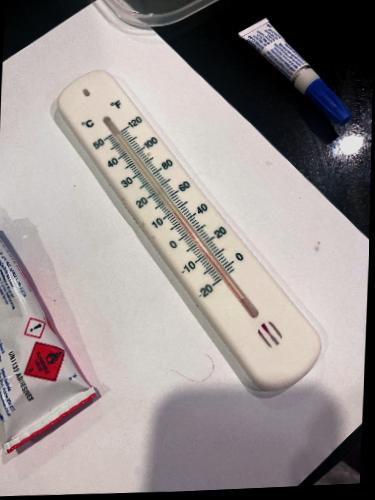thermo: (53, 58, 325, 391)
